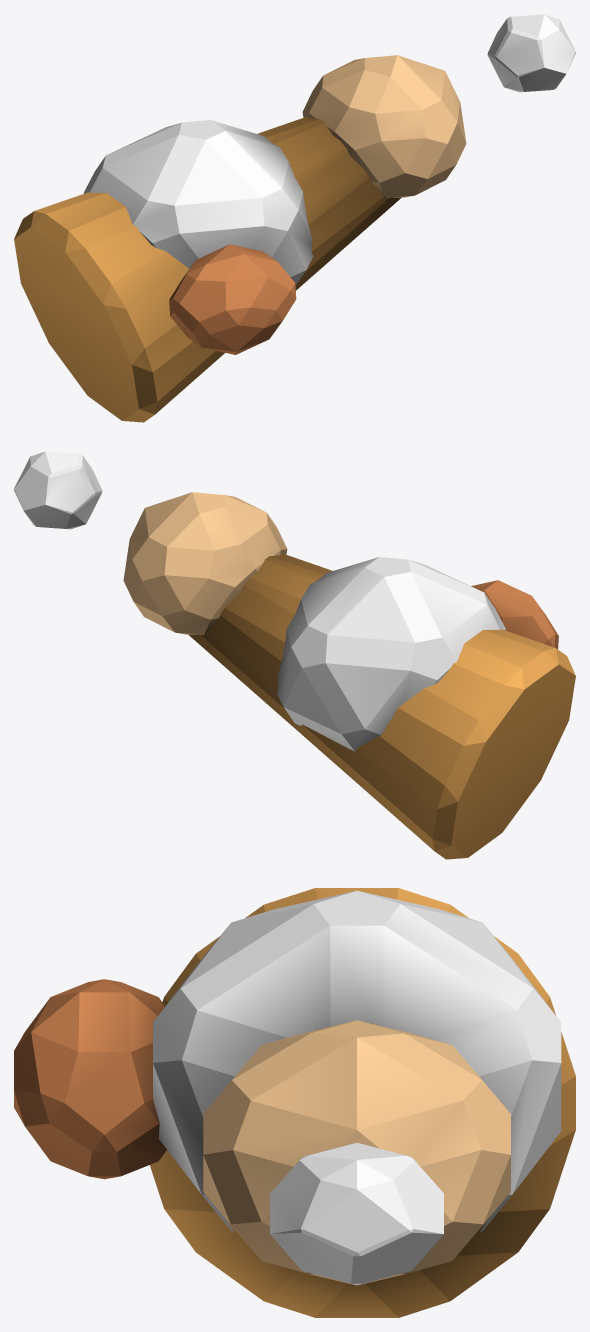
File: Conch.fbx
3 views of the same model, one above another, from view 1: azimuth 30°, elevation 25°; view 2: azimuth 150°, elevation 25°; view 3: azimuth 270°, elevation 25° (orthographic). The views are drawn at different scales.
Visible parts, largest first — view 1: Body; view 2: Body; view 3: Body.
Part boxes in pixels (left/top/right/bottom): Body: left=14, top=14, right=575, bottom=422; Body: left=14, top=451, right=575, bottom=859; Body: left=14, top=888, right=575, bottom=1317.
Size of the model in its own units: 0.5653 by 0.3046 by 0.2893.
